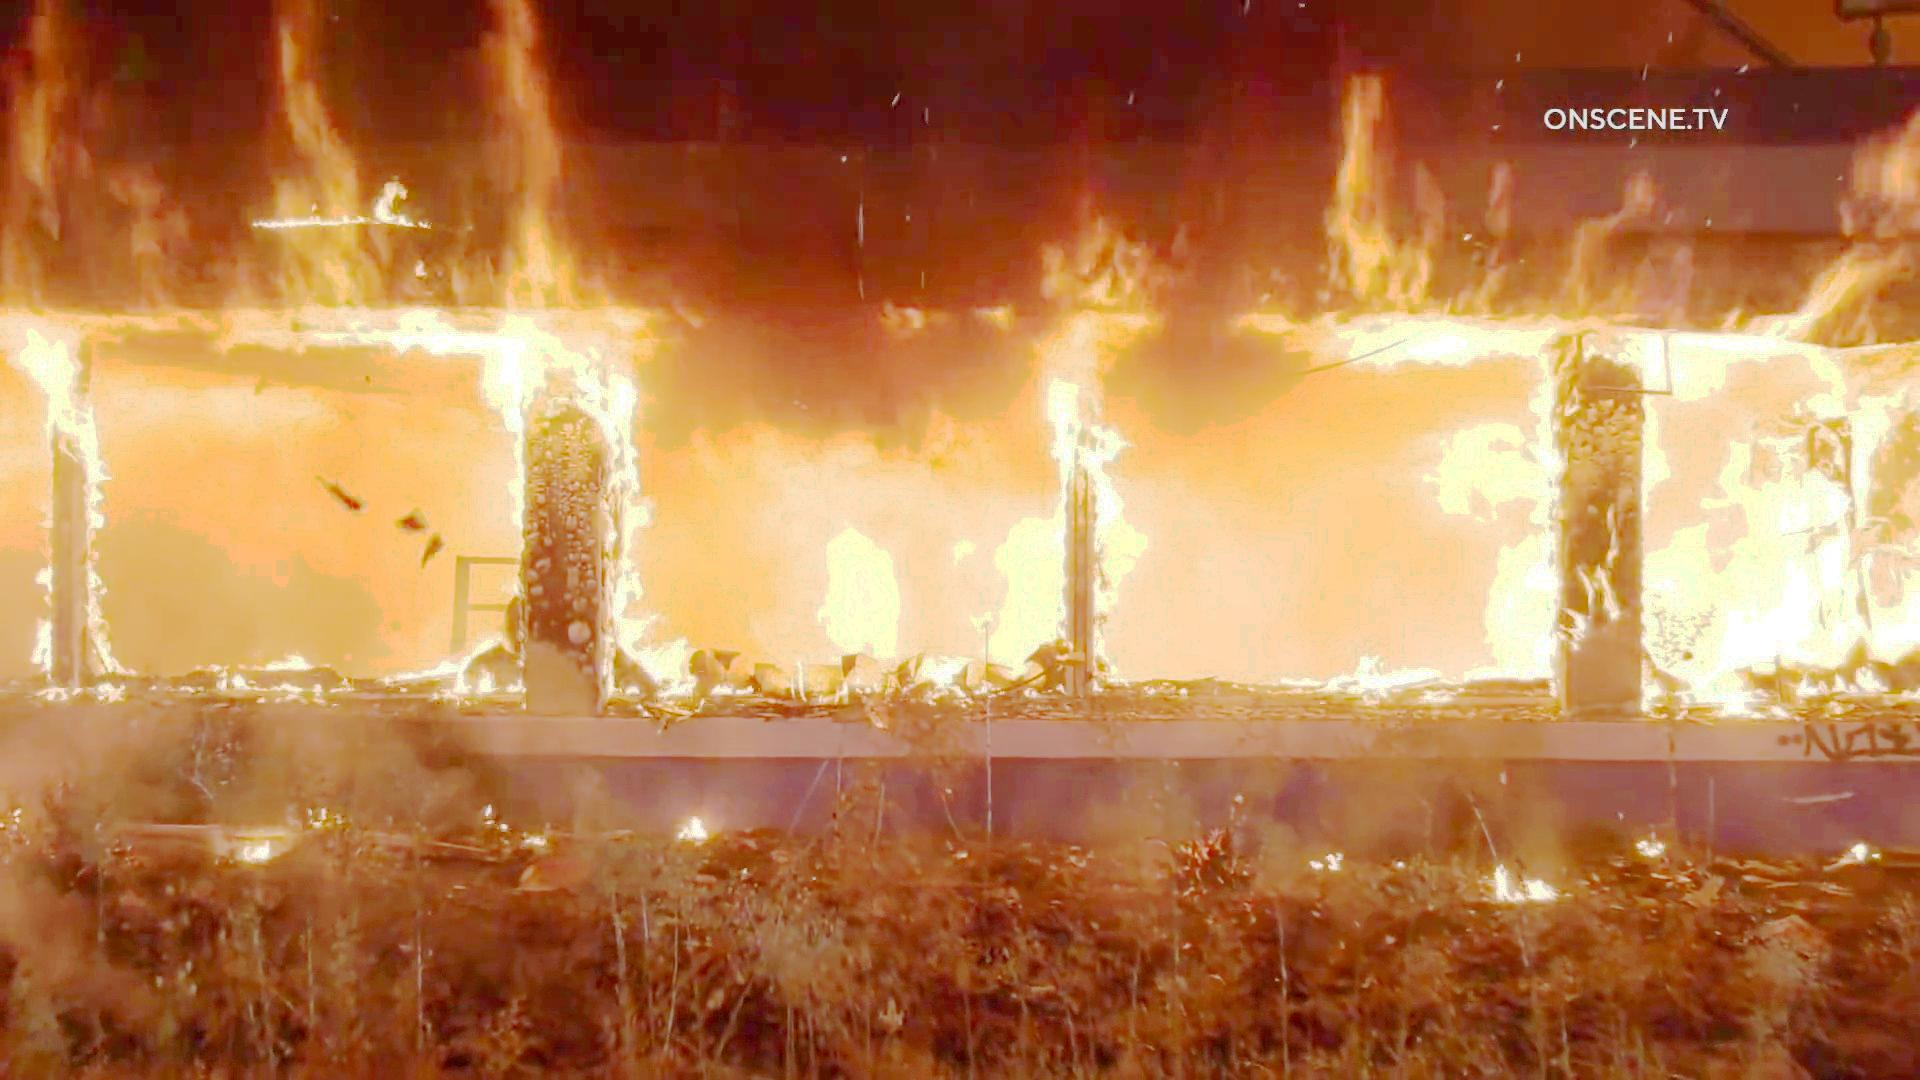fire: (102, 18, 526, 658), (1087, 100, 1506, 692), (617, 306, 1043, 680), (1677, 320, 1900, 688)
